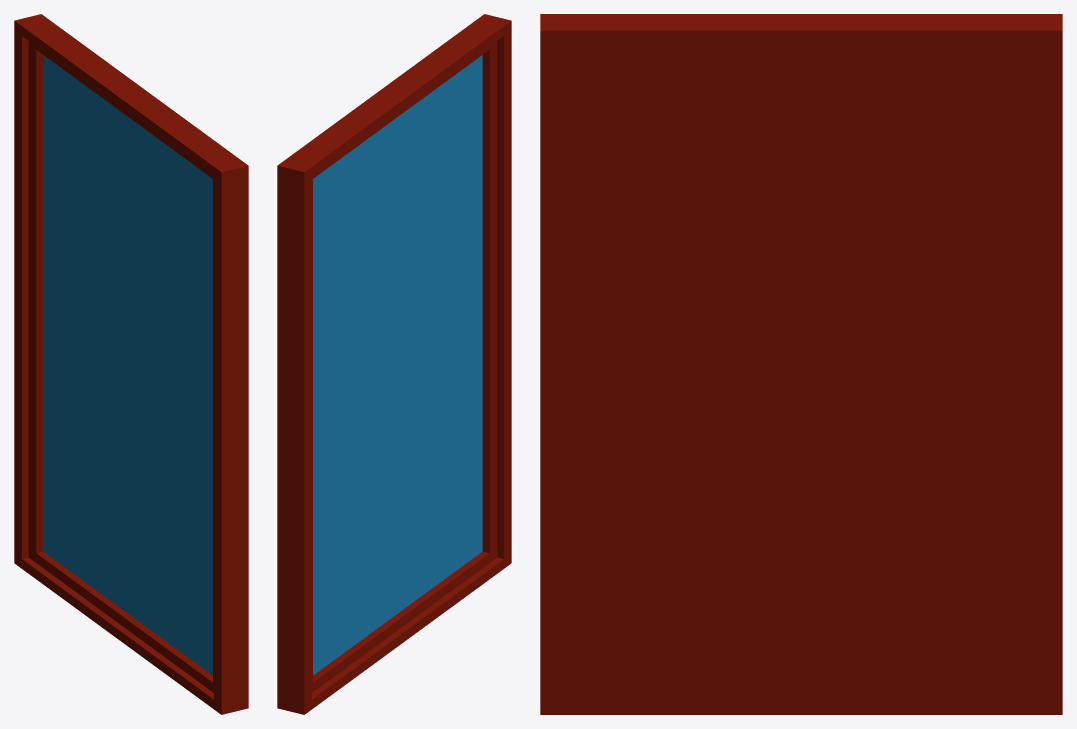
Rendered from Picture_02_Set.fbx.
3 views of the same model, side by side, from view 1: azimuth 30°, elevation 25°; view 2: azimuth 150°, elevation 25°; view 3: azimuth 270°, elevation 25° (orthographic). The views are drawn at different scales.
Visible parts, largest first — view 1: Picture_02_Image, Picture_02_Frame; view 2: Picture_02_Image, Picture_02_Frame; view 3: Picture_02_Frame.
Boxes of the visible parts, x1=… form: Picture_02_Image: x1=43, y1=55, x2=212, y2=675; Picture_02_Frame: x1=14, y1=14, x2=248, y2=714; Picture_02_Image: x1=313, y1=55, x2=482, y2=675; Picture_02_Frame: x1=277, y1=14, x2=511, y2=714; Picture_02_Frame: x1=540, y1=14, x2=1062, y2=714.
Size of the model in its own units: 10.08 by 193 by 134.
